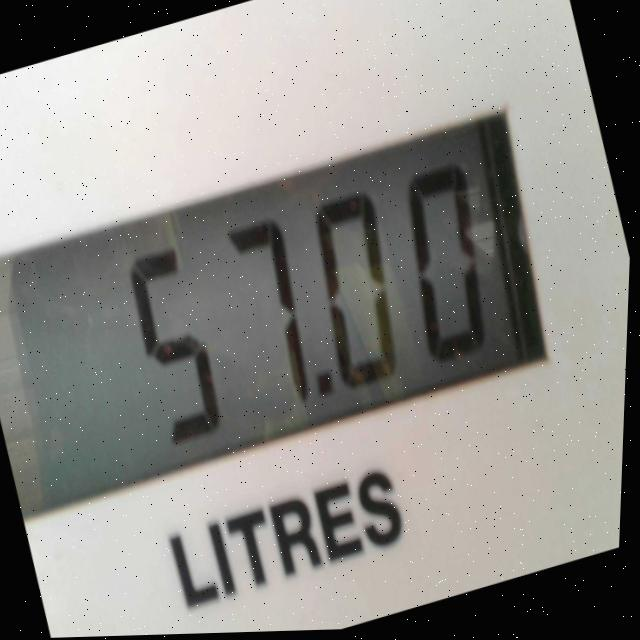.: (310, 362, 346, 420)
0: (379, 150, 525, 391), (292, 183, 432, 410)
1: (99, 226, 252, 464)
7: (203, 197, 341, 448)
